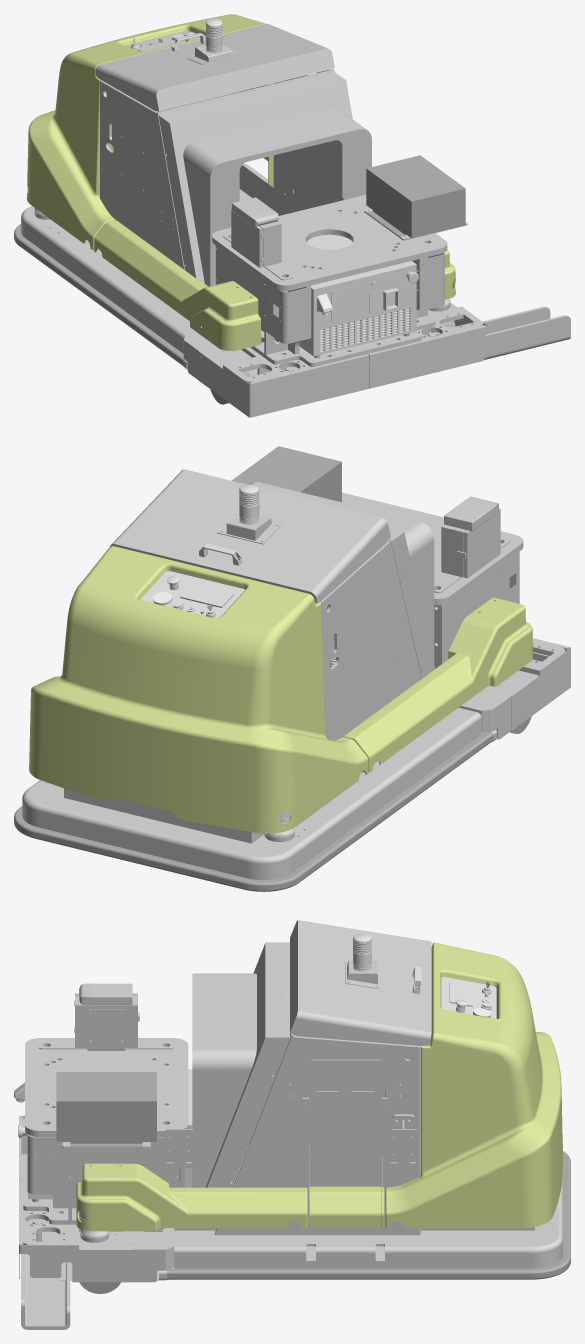
File: Vambo.glb
3 renders of one model, top to bottom at view 1: azimuth 30°, elevation 25°; view 2: azimuth 150°, elevation 25°; view 3: azimuth 270°, elevation 25°, orthographic. The views are drawn at different scales.
Parts seen in each view (by area): view 1: MainBodyMesh; view 2: MainBodyMesh; view 3: MainBodyMesh.
Boxes of the visible parts, <box> form: MainBodyMesh: <box>14,14,570,417</box>; MainBodyMesh: <box>14,446,570,891</box>; MainBodyMesh: <box>14,920,570,1329</box>.
Size of the model in its own units: 1.31 by 1.04 by 1.77.
